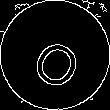O_NE: (23, 22, 87, 88)
